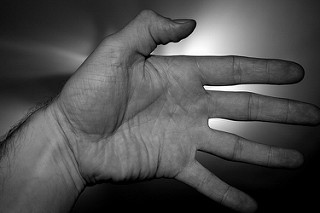palm: (83, 52, 203, 183)
